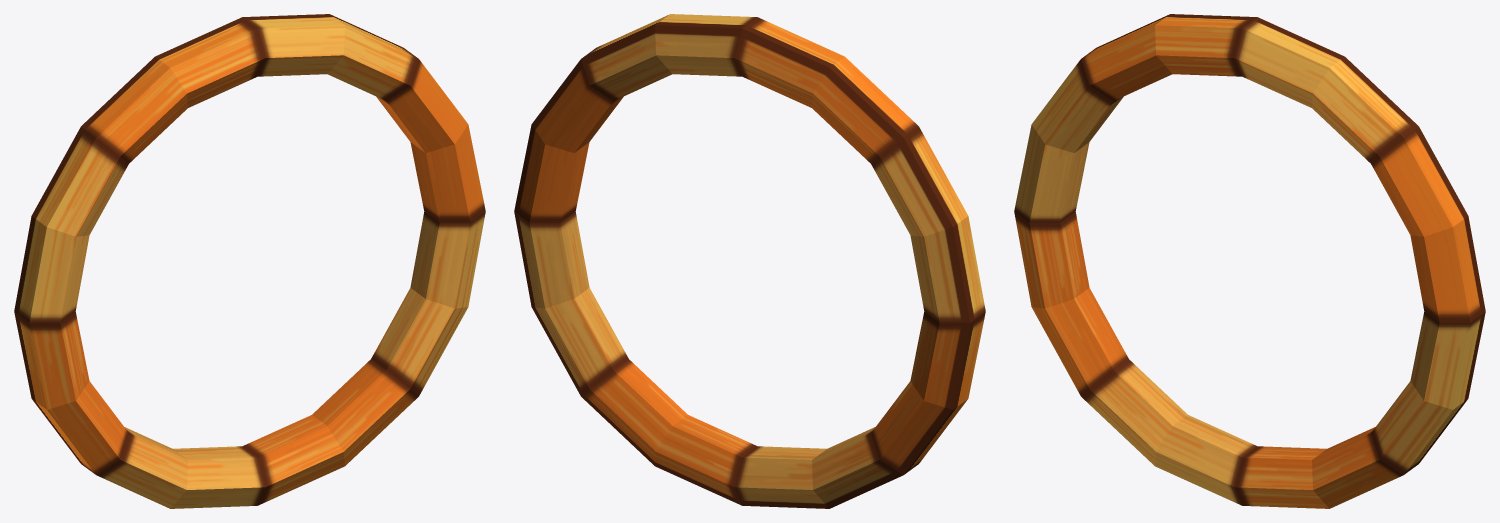
File: AroBronce.fbx
The picture shows the model from 3 angles, left to right: view 1: azimuth 30°, elevation 25°; view 2: azimuth 150°, elevation 25°; view 3: azimuth 330°, elevation 25°; orthographic projection.
Parts seen in each view (by area): view 1: AroBronce; view 2: AroBronce; view 3: AroBronce.
Boxes of the visible parts, x1,y1,x2,y2 form: AroBronce: (14, 14, 485, 508); AroBronce: (514, 14, 985, 508); AroBronce: (1014, 14, 1485, 508).
Size of the model in its own units: 11.13 by 11.13 by 1.3.
